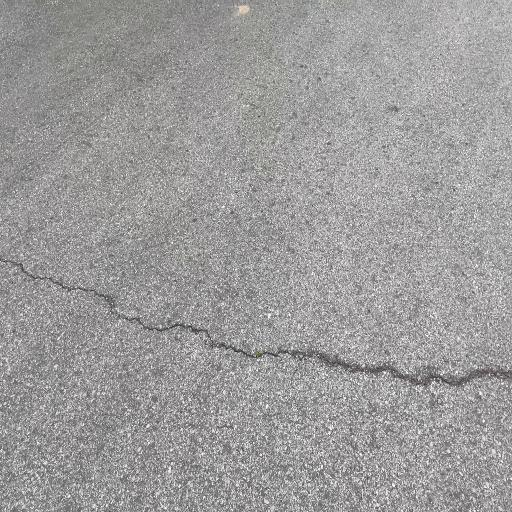Melintang: (0, 237, 512, 400)
